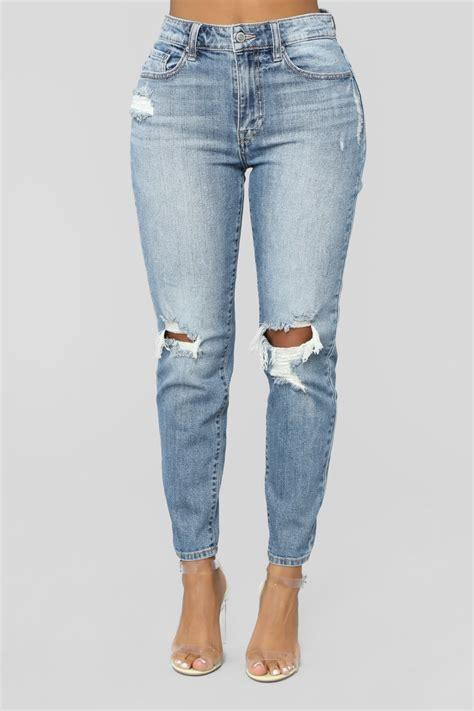pants: (128, 12, 366, 564)
